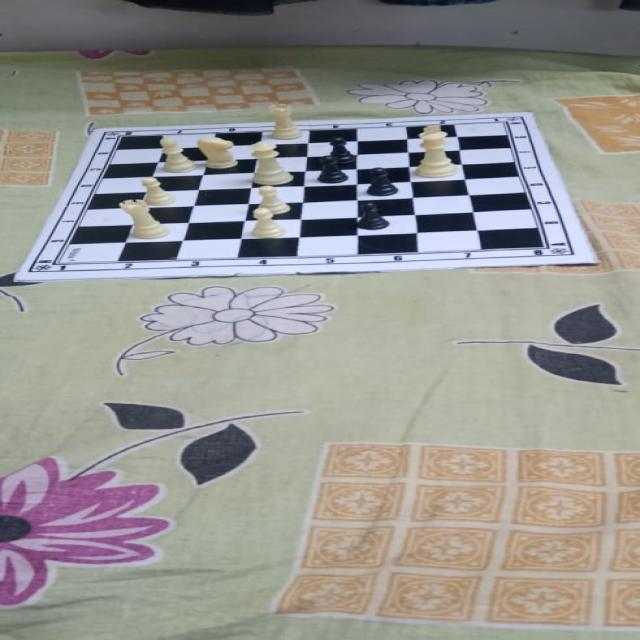corners: (87, 122, 113, 134), (4, 276, 32, 286), (580, 256, 602, 268), (520, 110, 540, 118)
